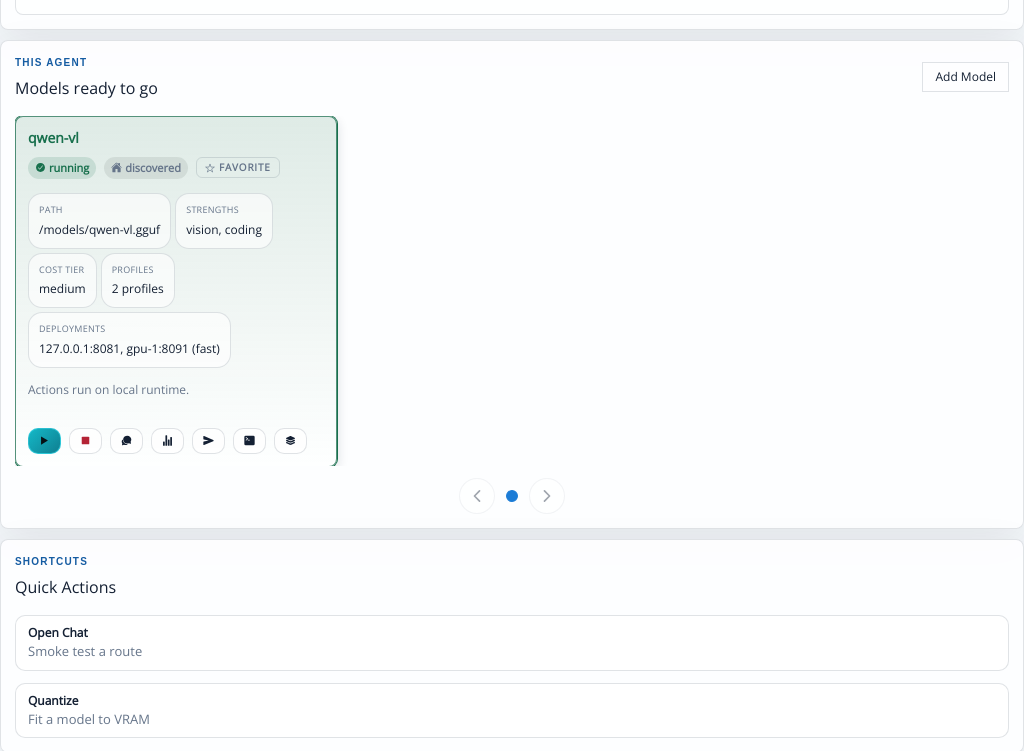
renders persisted catalog, profile, and deployment data on dashboard model cards
The width and height of the screenshot is (1024, 751).
(page scrolled)
Expected: the text "qwen-vl" is shown, [28, 128, 79, 146]
Expected: the text "Strengths" is shown, [186, 202, 239, 216]
Step 1. Click the button named "Show profiles for qwen-vl" → (290, 440), box [274, 427, 307, 453]
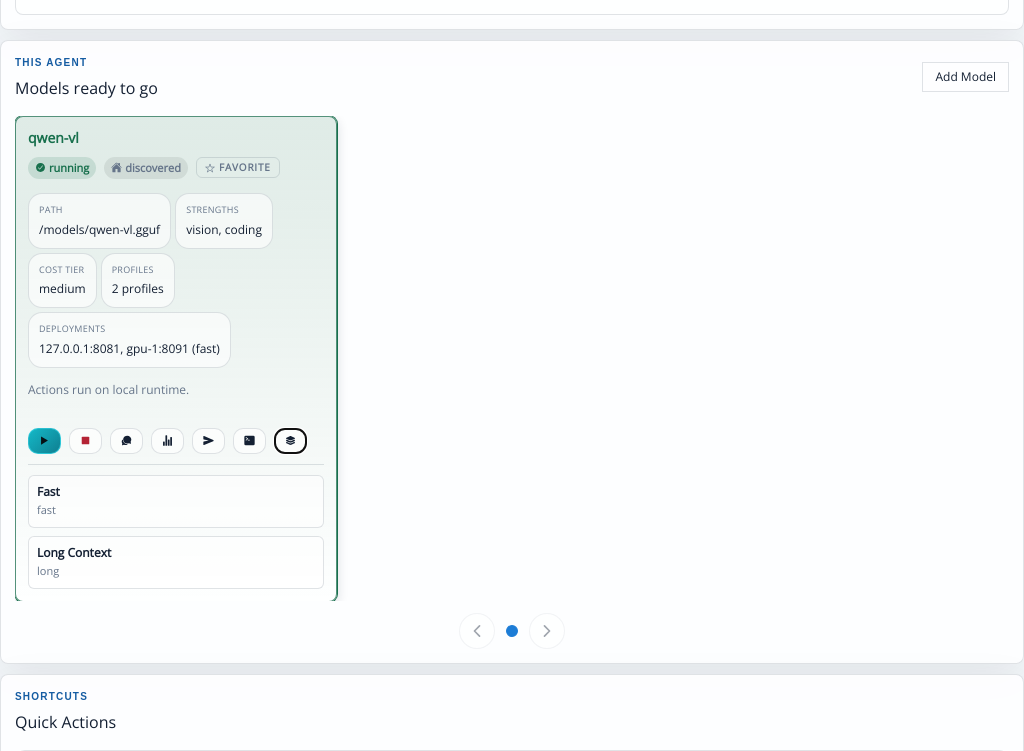
Expected: the element named "Profiles for qwen-vl" is shown, [28, 463, 324, 588]
Expected: the text "Fast" is shown, [37, 482, 60, 499]
Expected: the text "Long Context" is shown, [37, 543, 111, 560]
